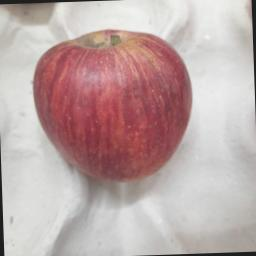Apple Ripe: (30, 26, 204, 190)
